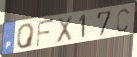1: (78, 13, 86, 40)
7: (95, 9, 113, 37)
C: (115, 7, 130, 34)
F: (35, 18, 55, 49)
Q: (16, 22, 36, 50)
X: (55, 15, 75, 46)
